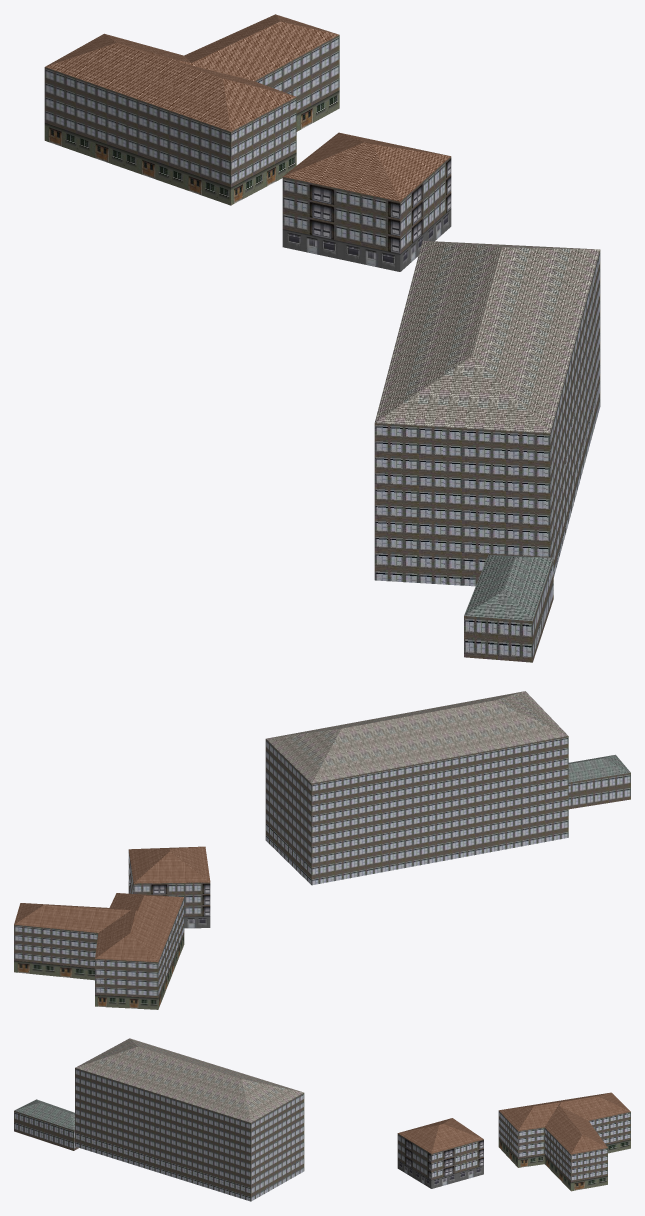
Rendered from GrupoEdificios5.FBX.
3 views of the same model, one above another, from view 1: azimuth 30°, elevation 25°; view 2: azimuth 150°, elevation 25°; view 3: azimuth 270°, elevation 25° (orthographic). The views are drawn at different scales.
Parts seen in each view (by area): view 1: Model44, Model51, Model11, Model37; view 2: Model44, Model51, Model11, Model37; view 3: Model44, Model51, Model11, Model37.
Part boxes in pixels (left/top/right/bottom): Model44: left=374, top=240, right=600, bottom=586; Model51: left=44, top=14, right=339, bottom=205; Model11: left=282, top=132, right=451, bottom=271; Model37: left=464, top=554, right=553, bottom=662; Model44: left=265, top=691, right=568, bottom=885; Model51: left=14, top=893, right=184, bottom=1009; Model11: left=128, top=846, right=210, bottom=928; Model37: left=568, top=754, right=630, bottom=809; Model44: left=75, top=1038, right=304, bottom=1201; Model51: left=498, top=1092, right=630, bottom=1191; Model11: left=397, top=1118, right=483, bottom=1188; Model37: left=14, top=1099, right=78, bottom=1150.
Size of the model in its own units: 7088 by 3314 by 18479.
